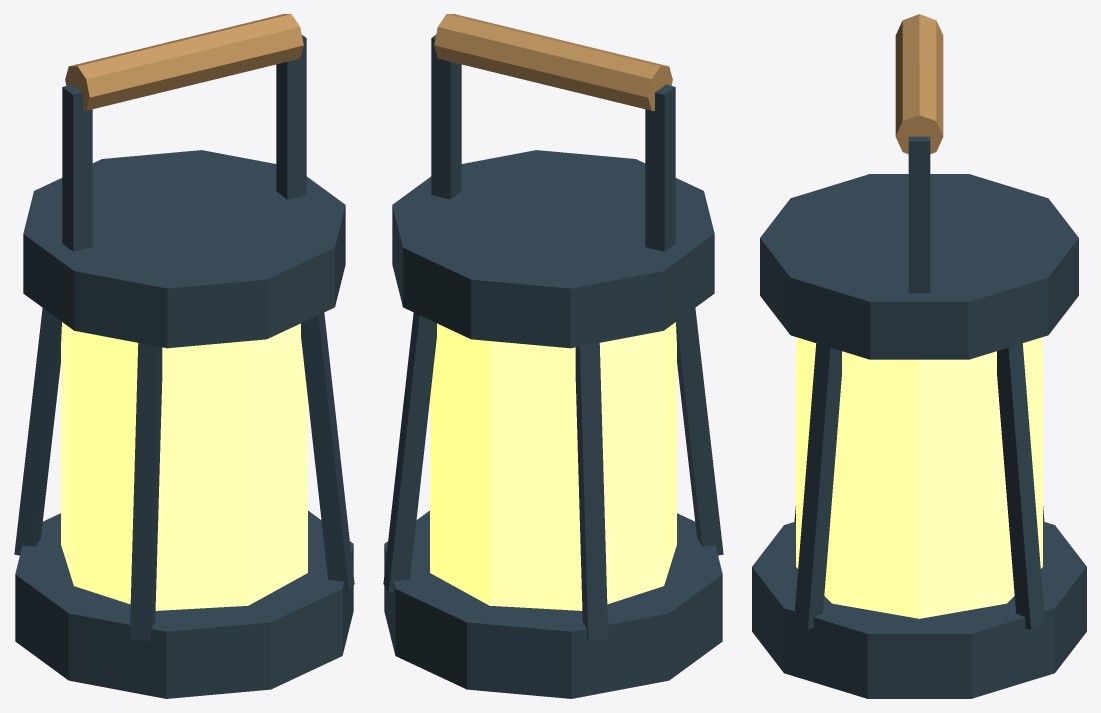
The model's file is SM_CampLantern.fbx.
3 views of the same model, side by side, from view 1: azimuth 30°, elevation 25°; view 2: azimuth 150°, elevation 25°; view 3: azimuth 270°, elevation 25° (orthographic). The views are drawn at different scales.
Visible parts, largest first — view 1: SM_CampLantern; view 2: SM_CampLantern; view 3: SM_CampLantern.
Part boxes in pixels (left/top/right/bottom): SM_CampLantern: left=14, top=14, right=354, bottom=698; SM_CampLantern: left=383, top=14, right=723, bottom=698; SM_CampLantern: left=752, top=14, right=1086, bottom=698.
Bounding box in the file's own units: 0.3994 × 0.42 × 0.785.
